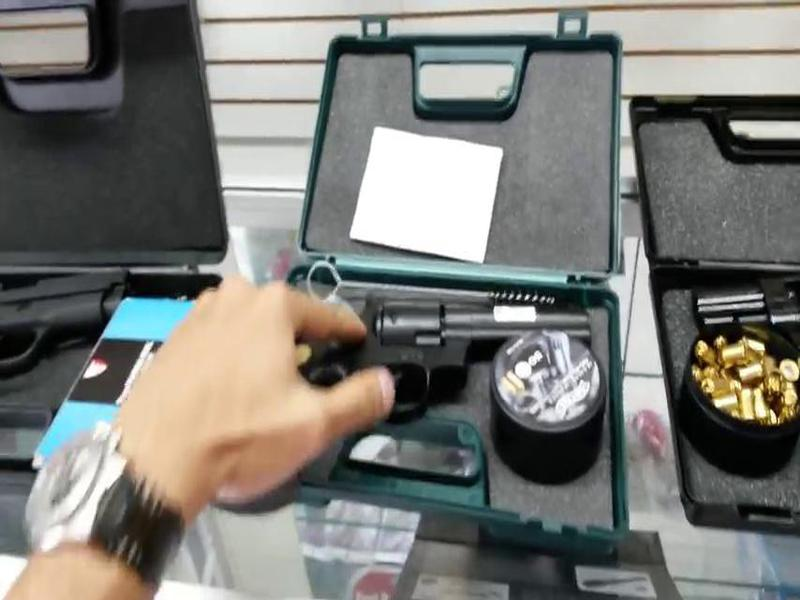Revolver: (269, 262, 609, 472)
